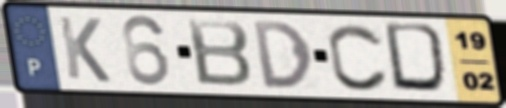6: (120, 13, 173, 89)
B: (184, 17, 256, 90)
C: (325, 21, 392, 94)
D: (381, 20, 455, 98), (249, 19, 317, 91)
K: (54, 14, 113, 85)
